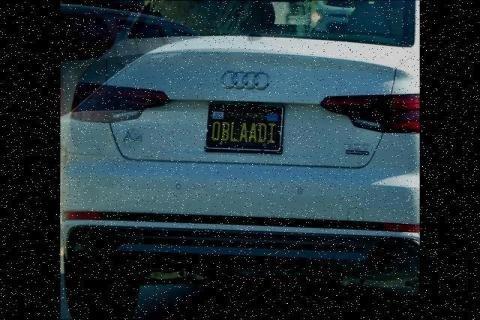LicensePlate: (202, 97, 286, 158)
